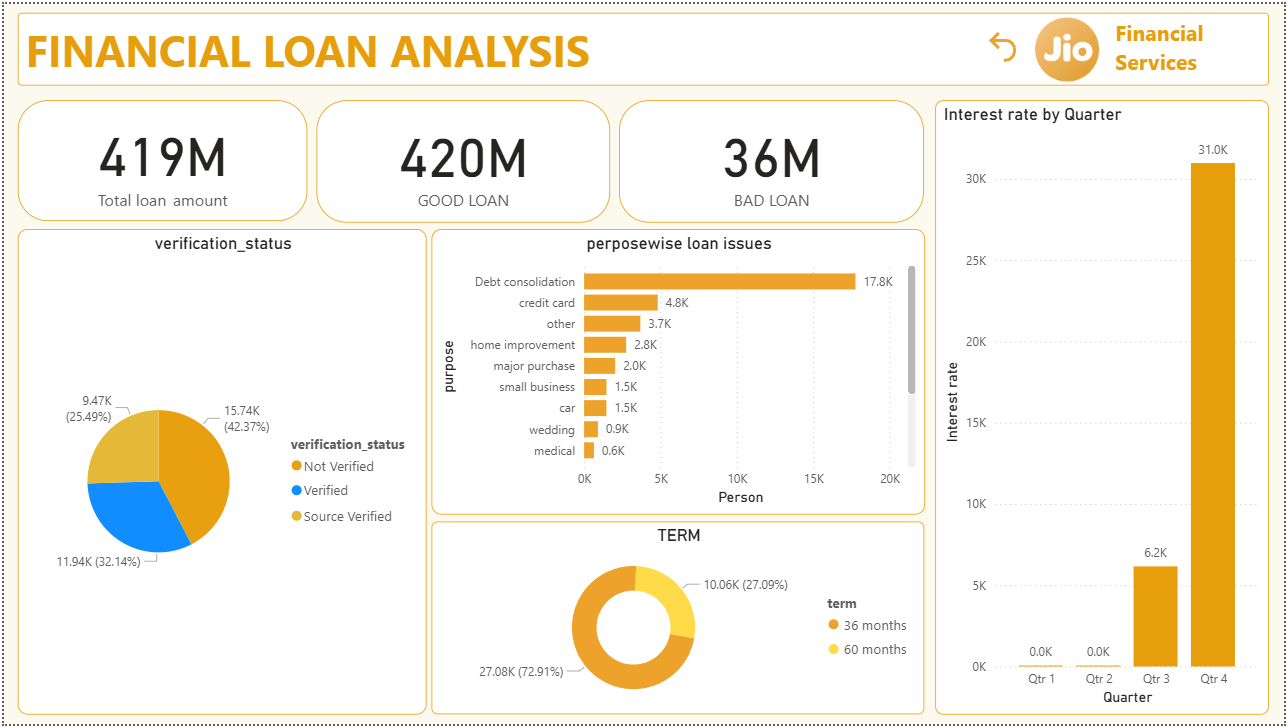

Layout of this report page (visuals, bound fields, positions):
{"tool":"powerbi","page":{"name":"Page 2","canvas":[1280,720],"ordinal":1},"visuals":[{"type":"textbox","box":[14.2,8.9,1251.2,73],"z":0},{"type":"image","box":[1017.1,8.7,90.9,73.6],"z":1000},{"type":"textbox","box":[1106.9,8.7,173.1,69.3],"z":2000},{"type":"card","fields":{"Values":["Sum(financial_loan(1).loan_amount)"]},"box":[14.3,96.1,289.6,120.8],"z":3000},{"type":"pieChart","title":"verification_status","fields":{"Category":["financial_loan(1).verification_status"],"Y":["CountNonNull(financial_loan(1).id)"]},"box":[14.3,224.7,409.1,485.7],"z":4000},{"type":"barChart","title":"perposewise loan issues","fields":{"Category":["financial_loan(1).purpose"],"Y":["CountNonNull(financial_loan(1).id)"]},"box":[427.1,225.1,493.4,285.7],"z":5000},{"type":"card","fields":{"Values":["financial_loan(1).GOOD LOAN"]},"box":[313,96.1,293.5,122.1],"z":6000},{"type":"card","fields":{"Values":["financial_loan(1).BAD LOAN"]},"box":[615.6,96.1,305.2,122.1],"z":7000},{"type":"columnChart","fields":{"Y":["CountNonNull(financial_loan(1).int_rate)"],"Category":["financial_loan(1).issue_date.Variation.Date Hierarchy.Quarter"]},"box":[931.2,96.1,333.8,614.3],"z":9000},{"type":"donutChart","title":"TERM ","fields":{"Category":["financial_loan(1).term"],"Y":["CountNonNull(financial_loan(1).id)"]},"box":[427,517,493,193],"z":11000},{"type":"actionButton","box":[979.2,22.1,100,40.3],"z":11001}]}

Visuals, with their boxes in screenshot pixels (x1, y1, x2, y2), scaled from the page's 1280x720 canvas onto the 1288x728 screenshot:
textbox: BBox(14, 9, 1273, 83)
image: BBox(1023, 9, 1115, 83)
textbox: BBox(1114, 9, 1287, 79)
card - Sum(financial_loan(1).loan_amount): BBox(14, 97, 306, 219)
"verification_status" pieChart: BBox(14, 227, 426, 718)
"perposewise loan issues" barChart: BBox(430, 228, 926, 516)
card - financial_loan(1).GOOD LOAN: BBox(315, 97, 610, 221)
card - financial_loan(1).BAD LOAN: BBox(619, 97, 927, 221)
columnChart - CountNonNull(financial_loan(1).int_rate) x financial_loan(1).issue_date.Variation.Date Hierarchy.Quarter: BBox(937, 97, 1273, 718)
"TERM " donutChart: BBox(430, 523, 926, 718)
actionButton: BBox(985, 22, 1086, 63)
